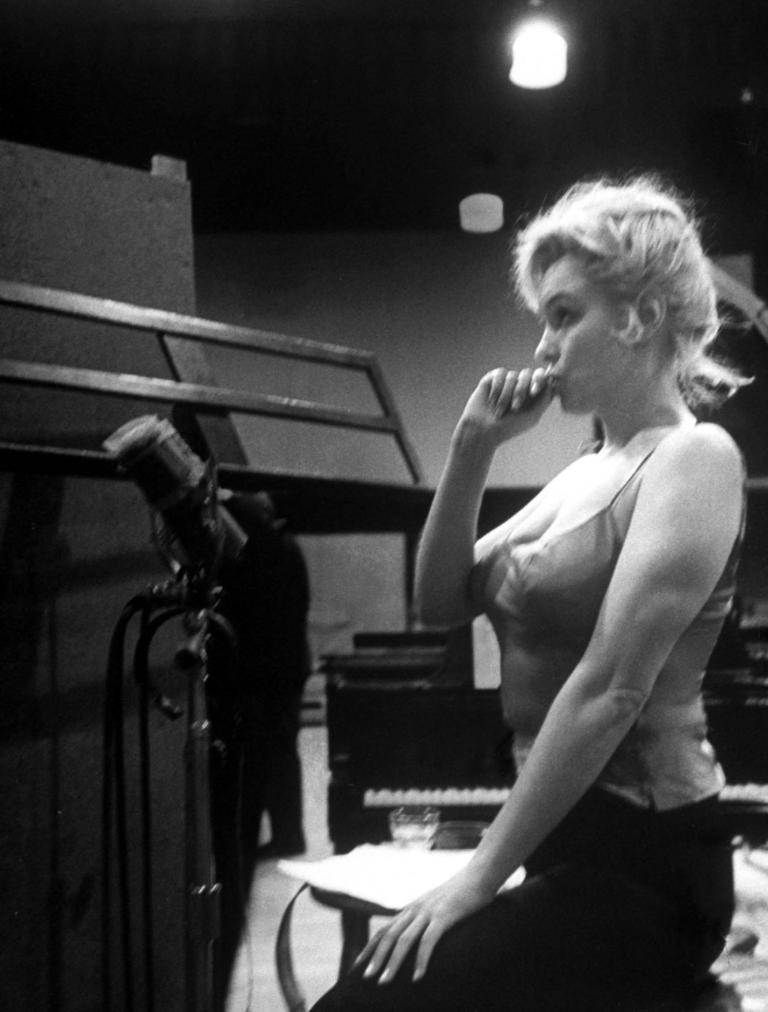Human_hand: (350, 873, 498, 991), (463, 357, 575, 464)
